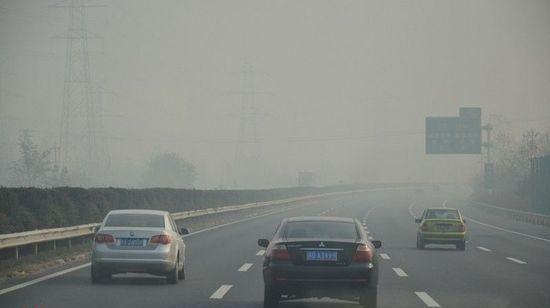car: (255, 214, 383, 305), (87, 207, 189, 285), (413, 204, 468, 250)
